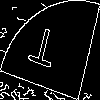T: (25, 25, 60, 77)
